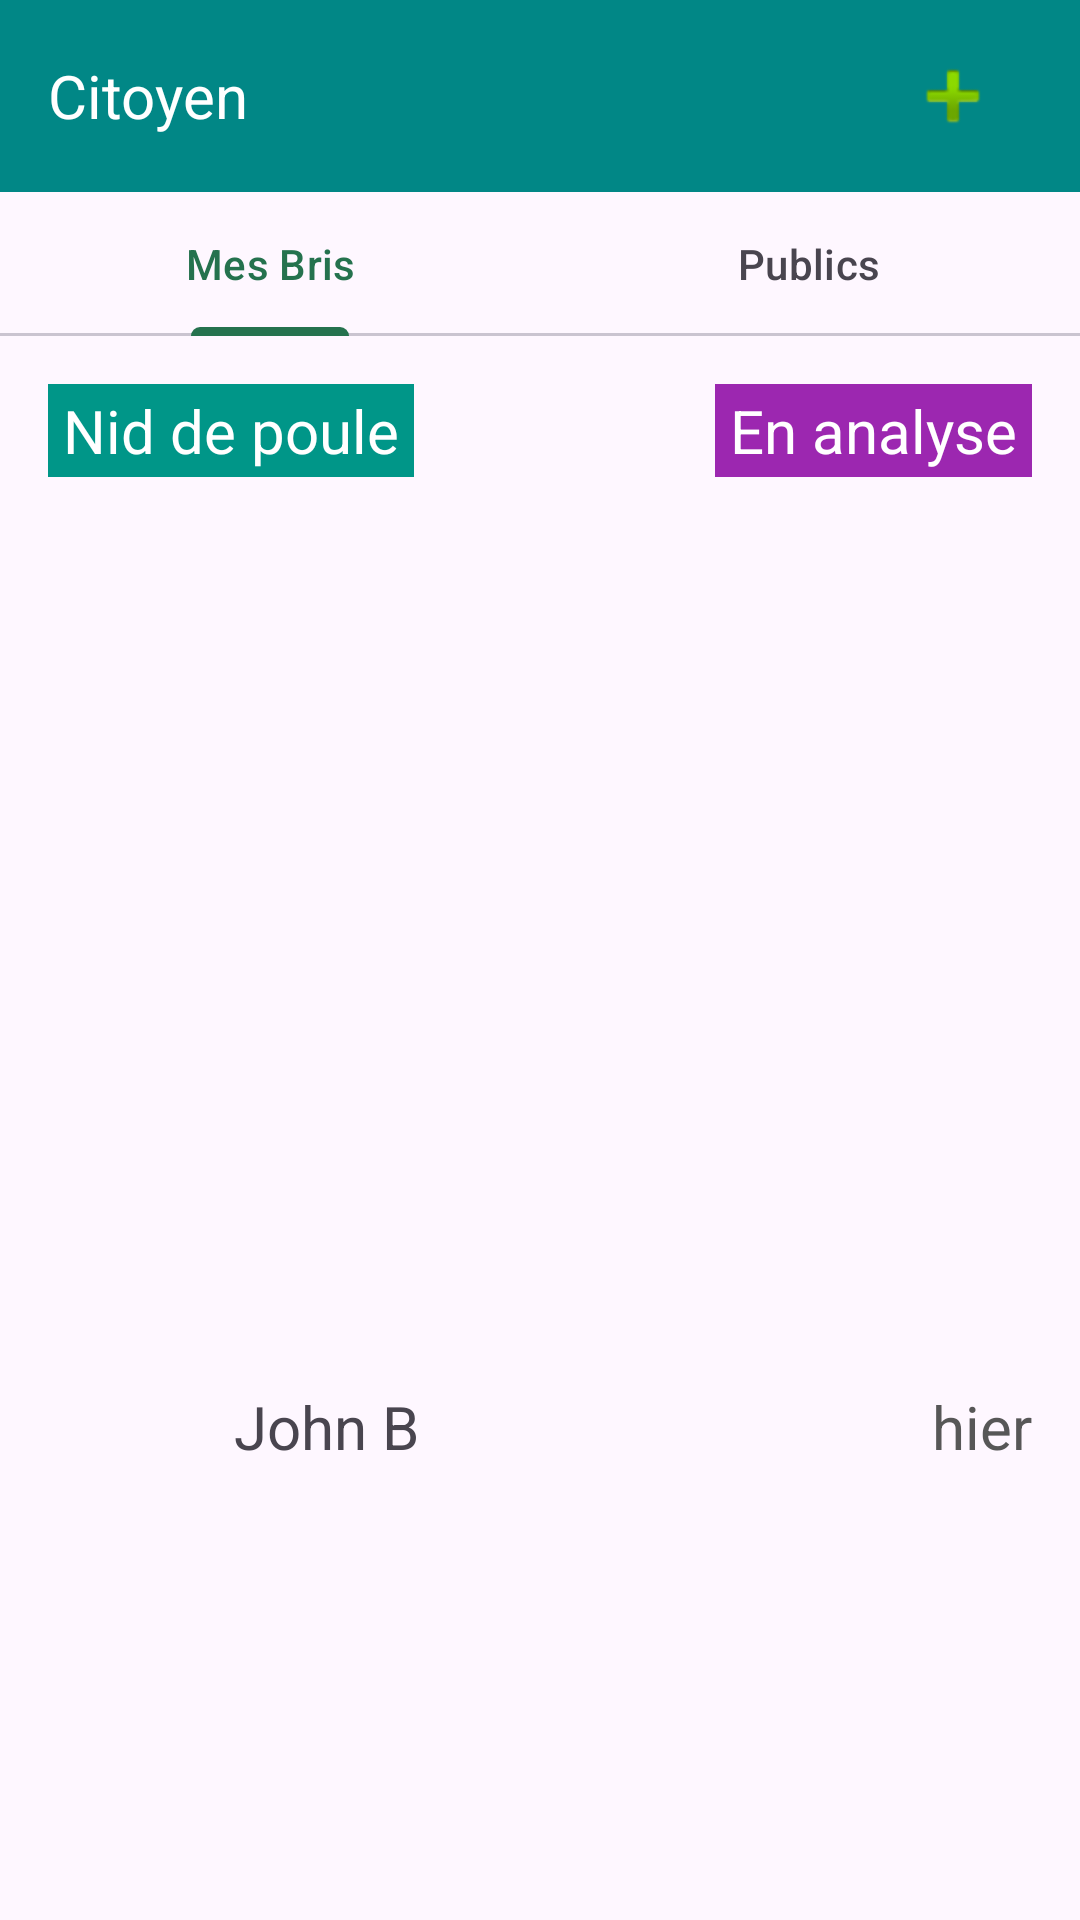

Point at icon controls on the screen. Image size 1080w x 1920h, points as (x,y).
add: (953,96)
